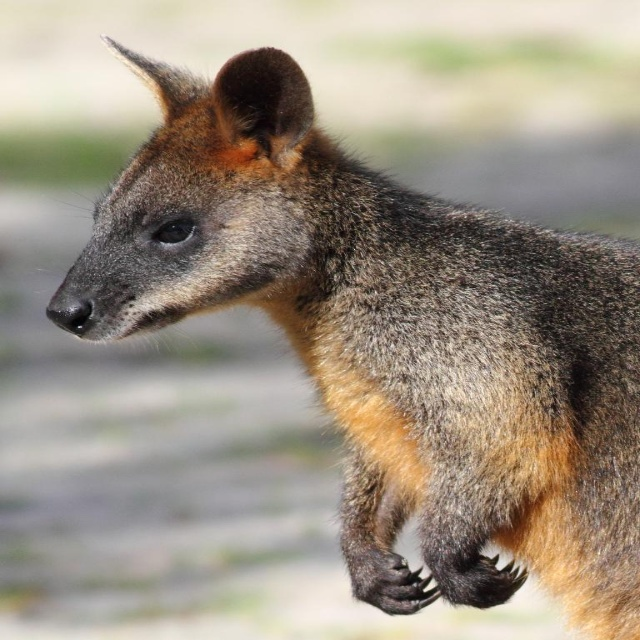Kangaroo: (48, 33, 639, 640)
